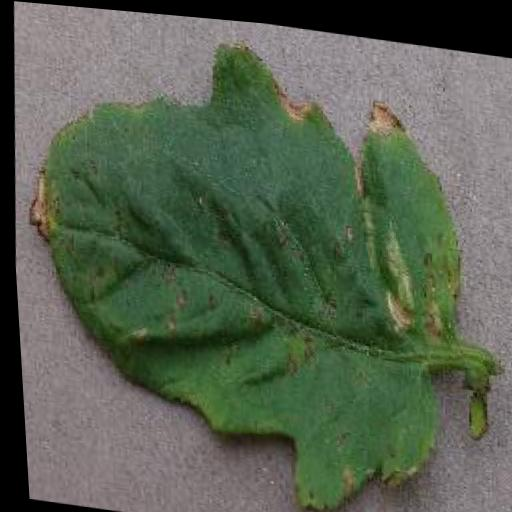Bacterial Spot: (0, 6, 512, 512)
